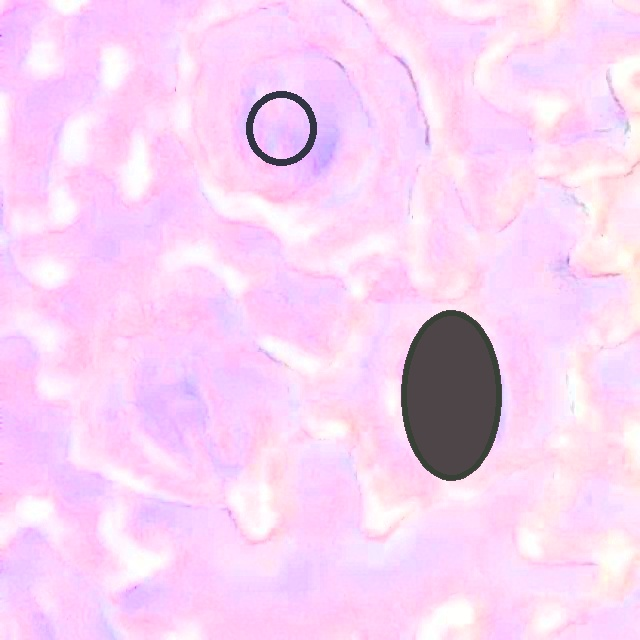open: (401, 310, 500, 480), (245, 90, 318, 167)
